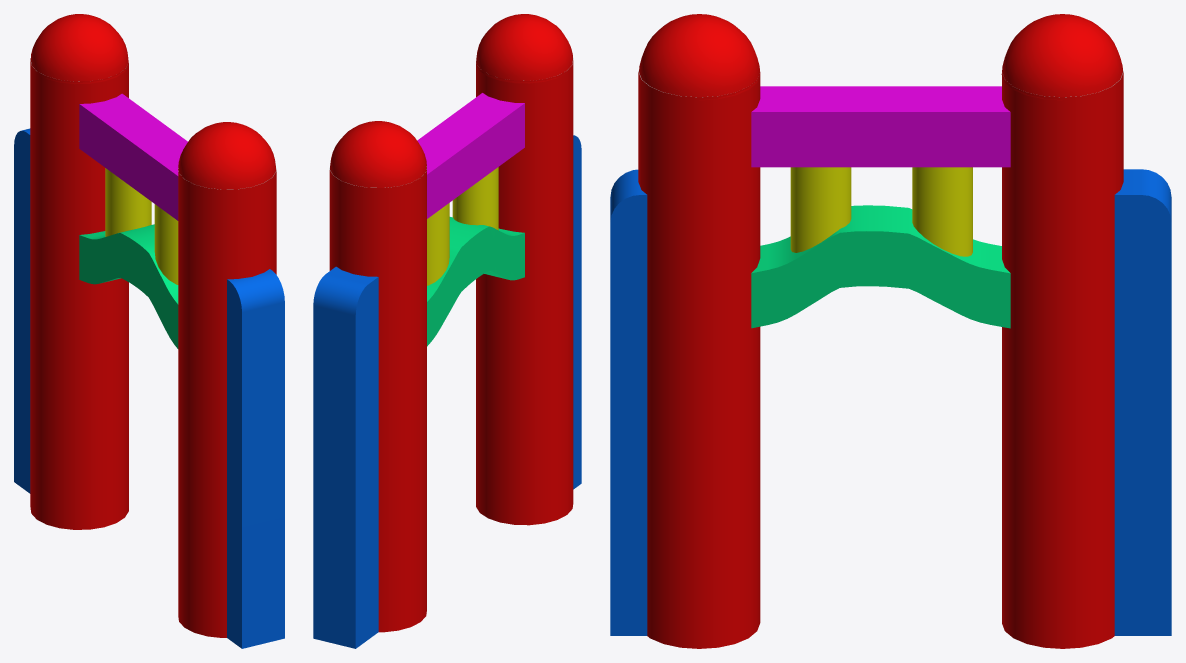
The model's file is Town_Gate2.fbx.
The picture shows the model from 3 angles, left to right: view 1: azimuth 30°, elevation 25°; view 2: azimuth 150°, elevation 25°; view 3: azimuth 270°, elevation 25°; orthographic projection. The views are drawn at different scales.
Visible parts, largest first — view 1: Tall_Thing_Right2; view 2: Tall_Thing_Right2; view 3: Tall_Thing_Right2.
Boxes of the visible parts, x1,y1,x2,y2 form: Tall_Thing_Right2: (14, 14, 284, 648); Tall_Thing_Right2: (313, 14, 581, 648); Tall_Thing_Right2: (610, 14, 1171, 648).
Size of the model in its own units: 18 by 98.5 by 82.97.
